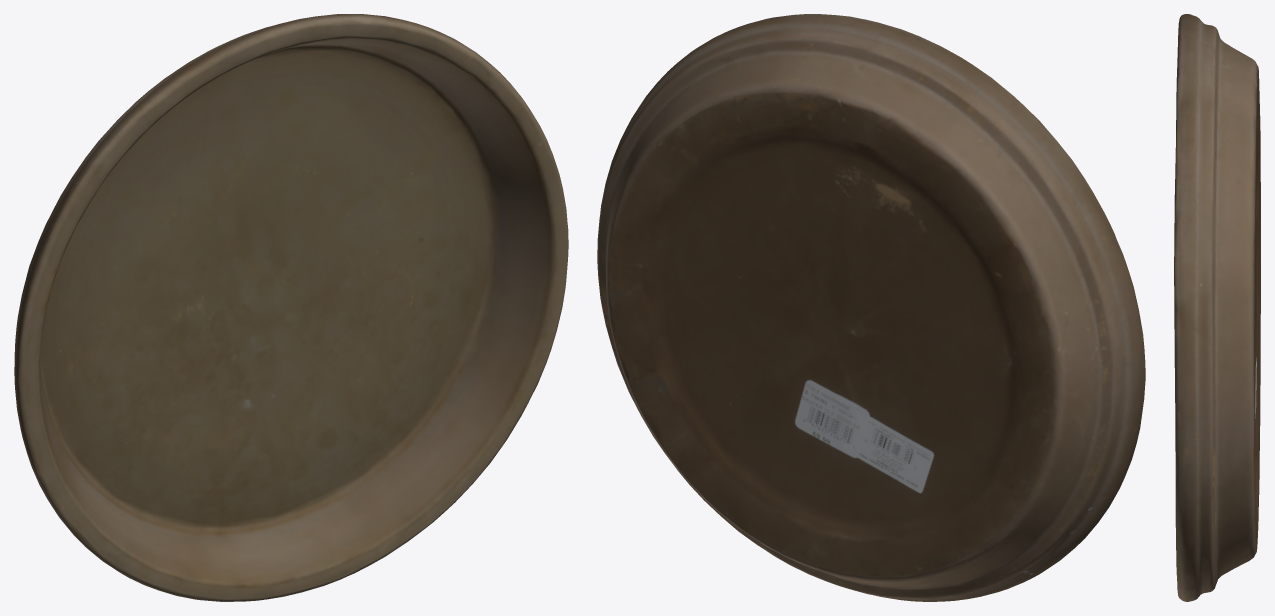
3 renders of one model, left to right at view 1: azimuth 30°, elevation 25°; view 2: azimuth 150°, elevation 25°; view 3: azimuth 270°, elevation 25°, orthographic. The views are drawn at different scales.
Size of the model in its own units: 0.3107 by 0.3095 by 0.0458.
